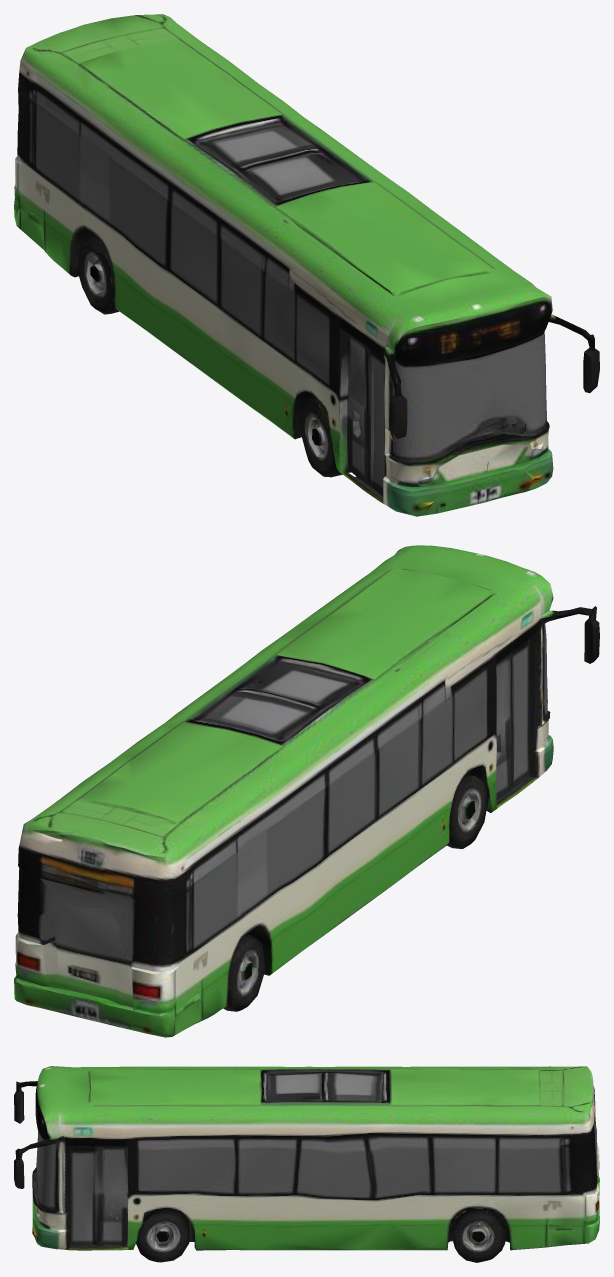
File: city_bus.glb
3 renders of one model, top to bottom at view 1: azimuth 30°, elevation 25°; view 2: azimuth 150°, elevation 25°; view 3: azimuth 270°, elevation 25°, orthographic. The views are drawn at different scales.
Parts seen in each view (by area): view 1: city_bus; view 2: city_bus; view 3: city_bus.
Boxes of the visible parts, x1,y1,x2,y2 form: city_bus: [14, 14, 599, 516]; city_bus: [14, 545, 599, 1037]; city_bus: [14, 1066, 599, 1262].
Bounding box in the file's own units: 3.2 × 3.19 × 11.
1 material, 1 textured.
